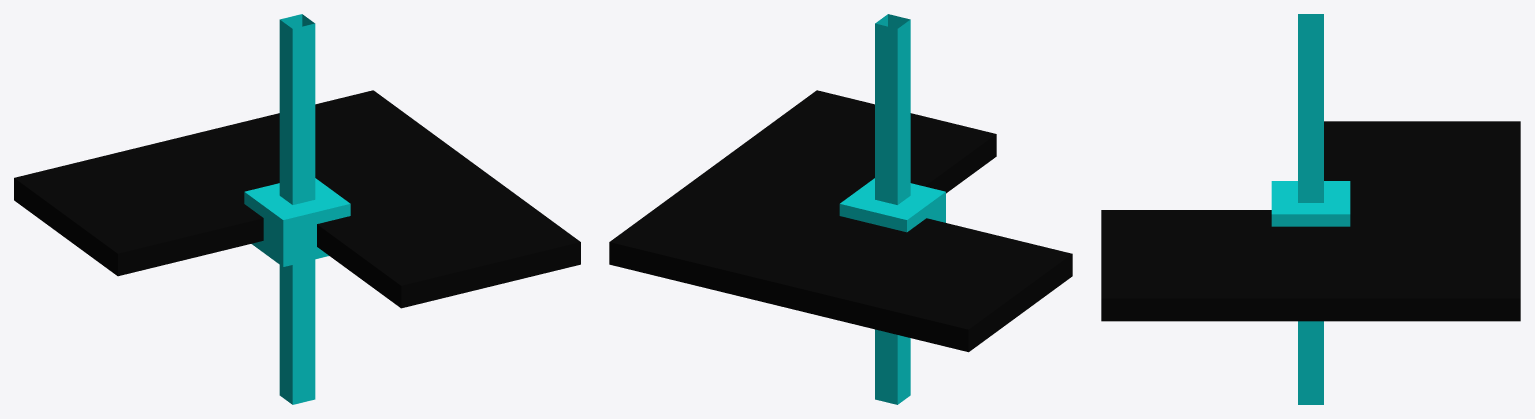
File: BigStrut_P_P_E_E_P_E_E_E_BigStrut.fbx
3 renders of one model, left to right at view 1: azimuth 30°, elevation 25°; view 2: azimuth 150°, elevation 25°; view 3: azimuth 270°, elevation 25°, orthographic.
Visible parts, largest first — view 1: BigStrut_P_P_E_E_P_E_E_E_BigStrut; view 2: BigStrut_P_P_E_E_P_E_E_E_BigStrut; view 3: BigStrut_P_P_E_E_P_E_E_E_BigStrut.
Part boxes in pixels (x1,y1,x2,y2): BigStrut_P_P_E_E_P_E_E_E_BigStrut: [14, 14, 580, 404]; BigStrut_P_P_E_E_P_E_E_E_BigStrut: [609, 14, 1072, 404]; BigStrut_P_P_E_E_P_E_E_E_BigStrut: [1101, 14, 1520, 404].
Size of the model in its own units: 100 by 100 by 100.
